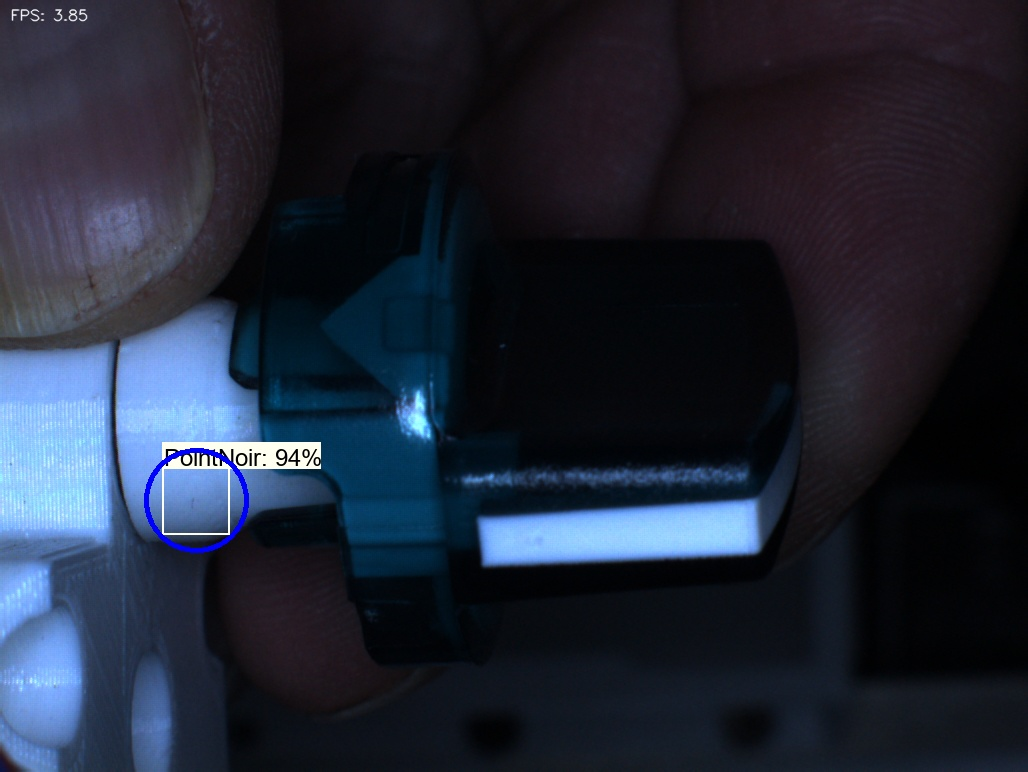DentOk: (308, 270, 366, 370)
